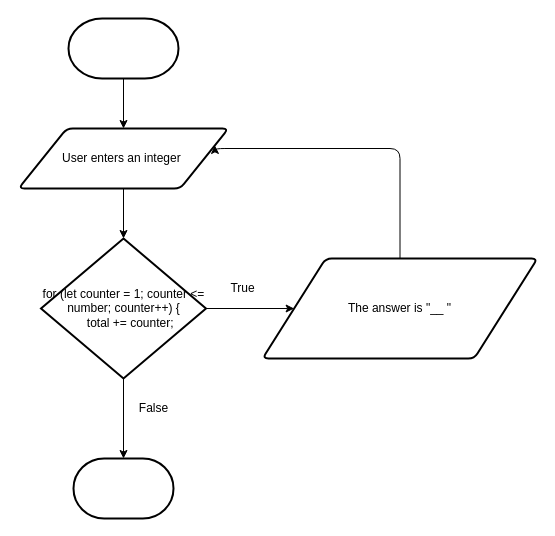
Image size: 555x536. Some labels were removed from this diagram. The shapes that lost their labels are listed below. From the top down, each one's centre as x and y in pixels, then its label:
At [123,48]: "Start".
At [123,488]: "Stop".
